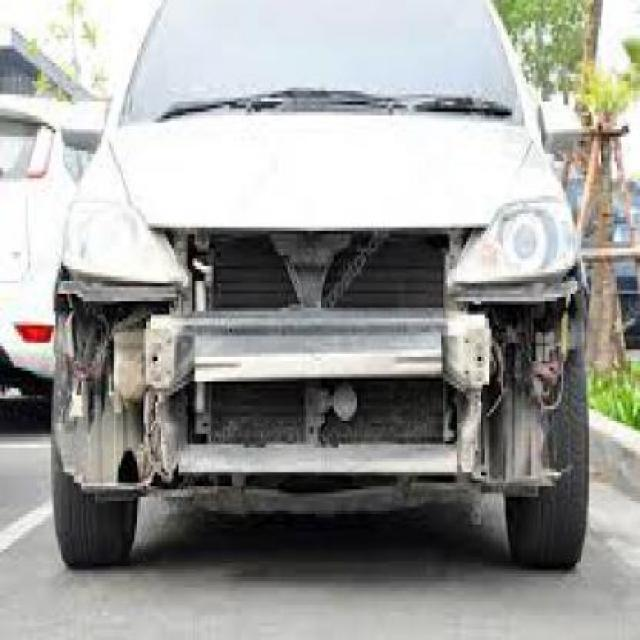damaged-front-bumper: (54, 296, 594, 489)
